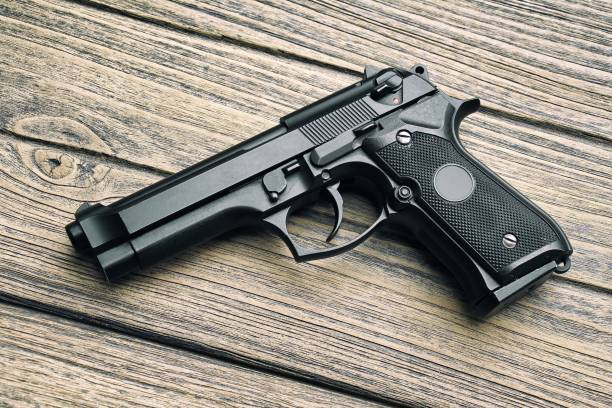gun: (63, 61, 574, 321)
